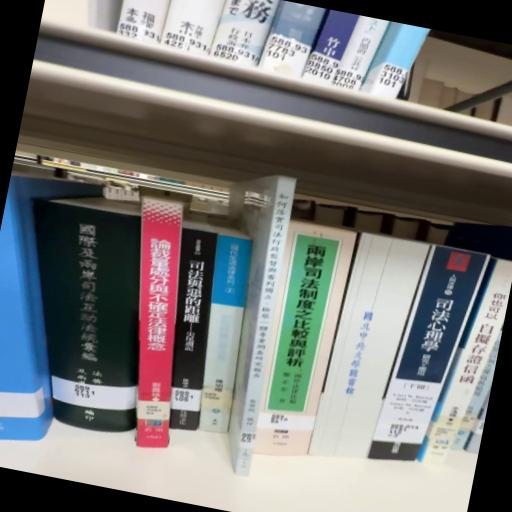backward: (307, 232, 427, 472)
book: (1, 186, 182, 443), (101, 197, 218, 455), (144, 221, 252, 442), (259, 224, 362, 427), (180, 224, 268, 441)
